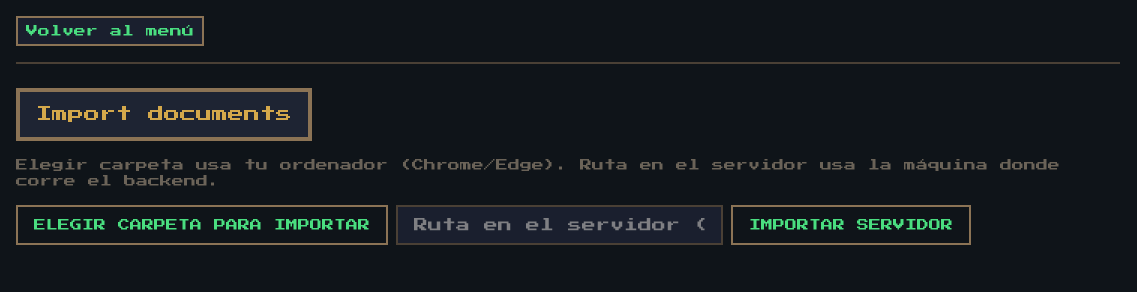
Test: Import › envía import por ruta al pulsar IMPORTAR SERVIDOR
The image size is (1137, 292).
Type "/tmp/docs" into the field with placeholder "Ruta en el servidor (ej: /ruta/local)" at (560, 225), box [396,205,723,245]
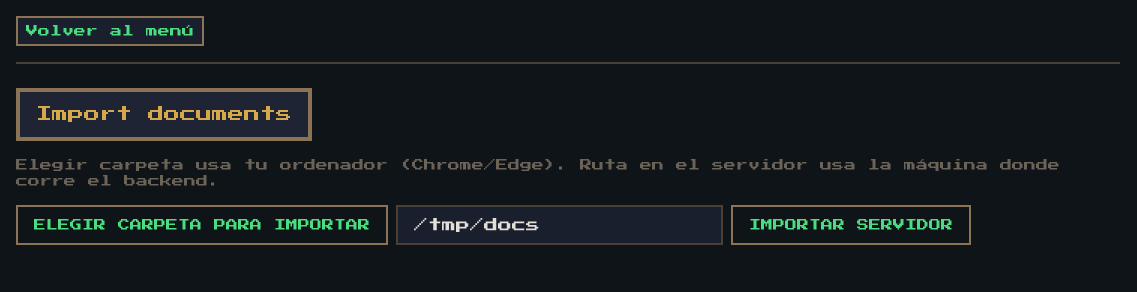
Click the button "IMPORTAR SERVIDOR" at (851, 225), box [731,205,971,245]
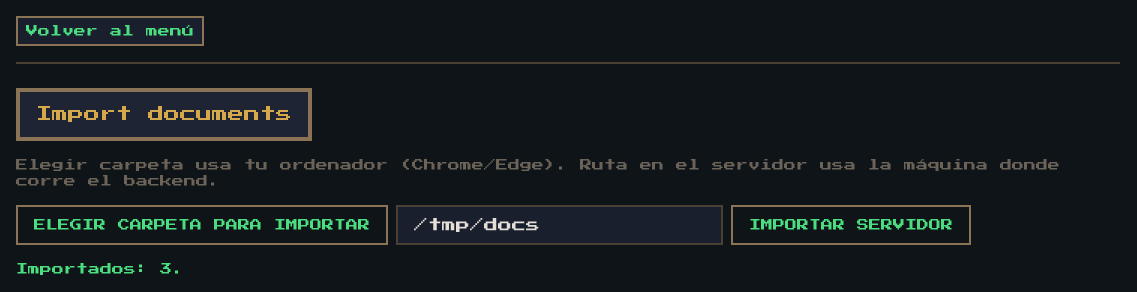
Now the text "Importados: 3." is shown, box [16,263,184,275]
